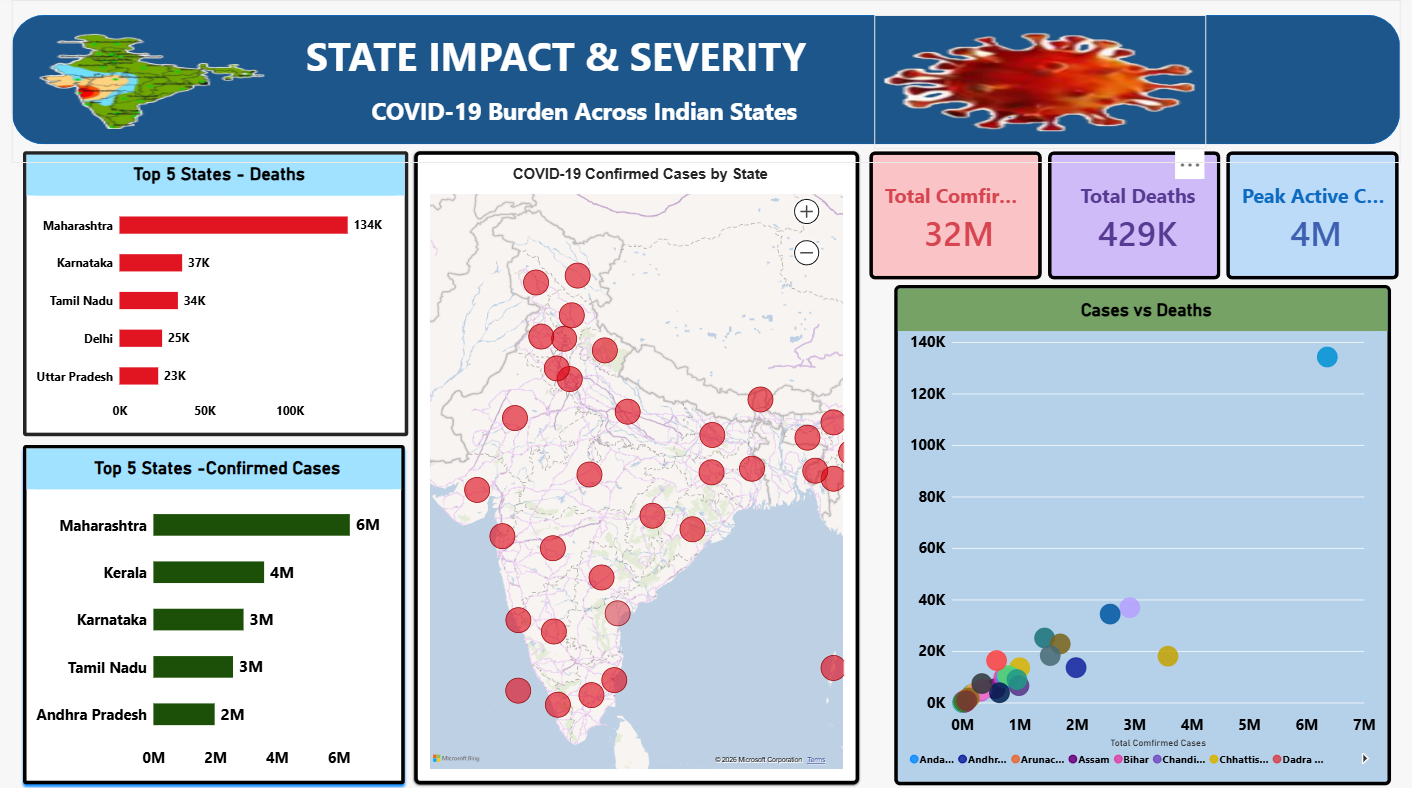

Layout of this report page (visuals, bound fields, positions):
{"tool":"powerbi","page":{"name":"STATE IMPACT & SEVERITY","canvas":[1920,1080],"ordinal":1},"visuals":[{"type":"shape","box":[18.6,19.7,1882.8,175.4],"z":0,"group":"g1"},{"type":"clusteredBarChart","title":"Top 5 States -Confirmed Cases","fields":{"Category":["covid_india.state"],"Y":["covid_india.Total Comfirmed Cases"]},"box":[34.5,603.4,517.2,460.3],"z":0},{"type":"textbox","box":[378.1,20.1,751.7,174.1],"z":1000,"group":"g2"},{"type":"clusteredBarChart","title":"Top 5 States - Deaths","fields":{"Category":["covid_india.state"],"Y":["covid_india.Total Deaths"]},"box":[34.5,205.2,522.4,386.2],"z":1000},{"type":"map","title":"COVID-19 Confirmed Cases by State","fields":{"Category":["covid_india.state"]},"box":[563.8,205.2,603.4,858.6],"z":2000},{"type":"scatterChart","title":"Cases vs Deaths","fields":{"X":["covid_india.Total Comfirmed Cases"],"Y":["covid_india.Total Deaths"],"Series":["covid_india.state"]},"box":[1215.2,387,673.9,678.3],"z":3000},{"type":"cardVisual","fields":{"Data":["covid_india.Total Comfirmed Cases","covid_india.Total Deaths","covid_india.Peak Active Cases"]},"box":[1181,205.2,719.6,175],"z":4000},{"type":"group","id":"g1","title":"Group 1","box":[18.6,0,1883.1,220.3],"z":5000},{"type":"image","box":[40.4,0,336.2,220.7],"z":6000,"group":"g2"},{"type":"image","box":[1188.4,19.7,448.3,182.8],"z":7000,"group":"g2"},{"type":"group","id":"g2","title":"Group 2","box":[40.4,0,1596.3,220.7],"z":7001,"group":"g1"}]}

Visuals, with their boxes in screenshot pixels (x1, y1, x2, y2), scaled from the page's 1920x1080 canvas onto the 1412x788 screenshot:
shape: [14,14,1398,142]
"Top 5 States -Confirmed Cases" clusteredBarChart: [25,440,406,776]
textbox: [278,15,831,142]
"Top 5 States - Deaths" clusteredBarChart: [25,150,410,432]
"COVID-19 Confirmed Cases by State" map: [415,150,858,776]
"Cases vs Deaths" scatterChart: [894,282,1389,777]
cardVisual - covid_india.Total Comfirmed Cases x covid_india.Total Deaths: [869,150,1398,277]
"Group 1" group: [14,0,1399,161]
image: [30,0,277,161]
image: [874,14,1204,148]
"Group 2" group: [30,0,1204,161]
